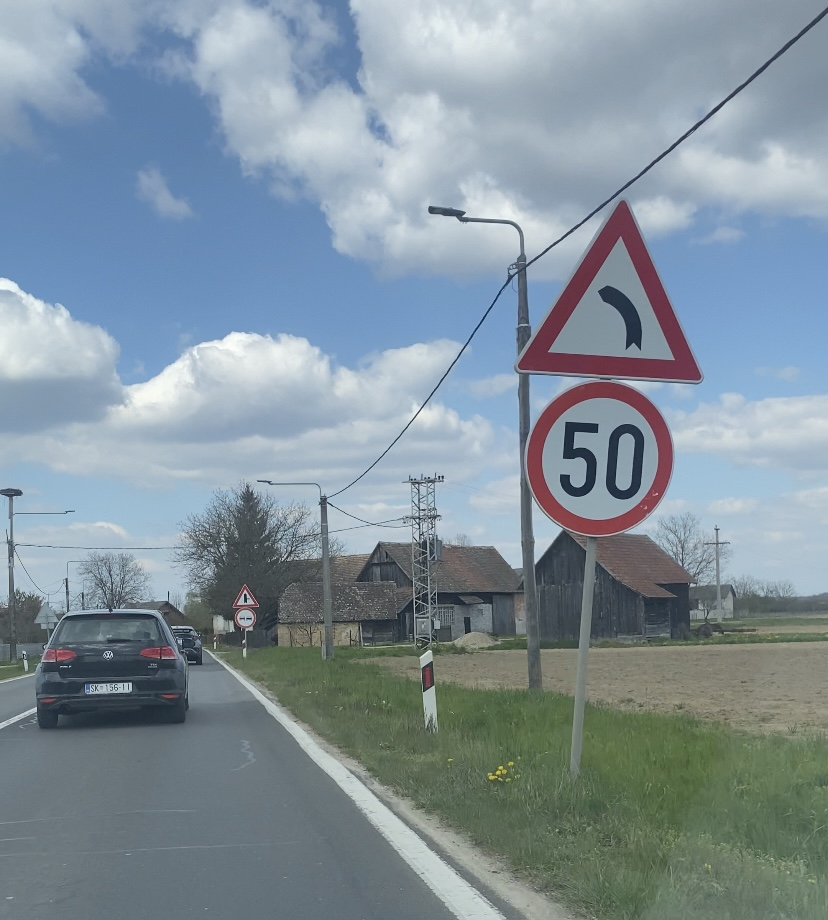Ograničenje brzine 50: (525, 380, 674, 538)
Zabrana pretjecanja: (235, 607, 256, 628)
